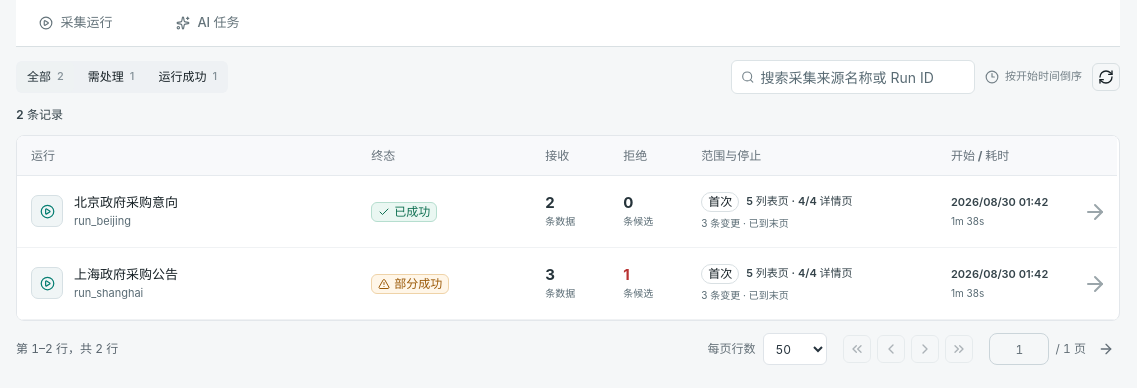
Test: RunsPage operational list › searches rows by collector name and keeps status filtering available
The width and height of the screenshot is (1137, 388).
In the field named "搜索运行": (863, 77) [760,62,965,92], type "上海"
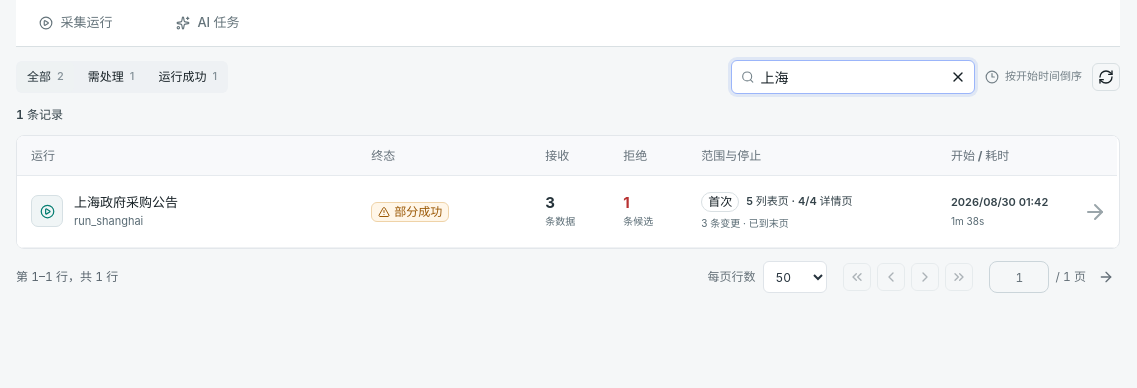
Expected: the text "上海政府采购公告" is shown, [74,192,178,213]
Expected: the link "北京政府采购意向" is gone
Click the button "运行成功 1": click(188, 77) [147,61,228,93]
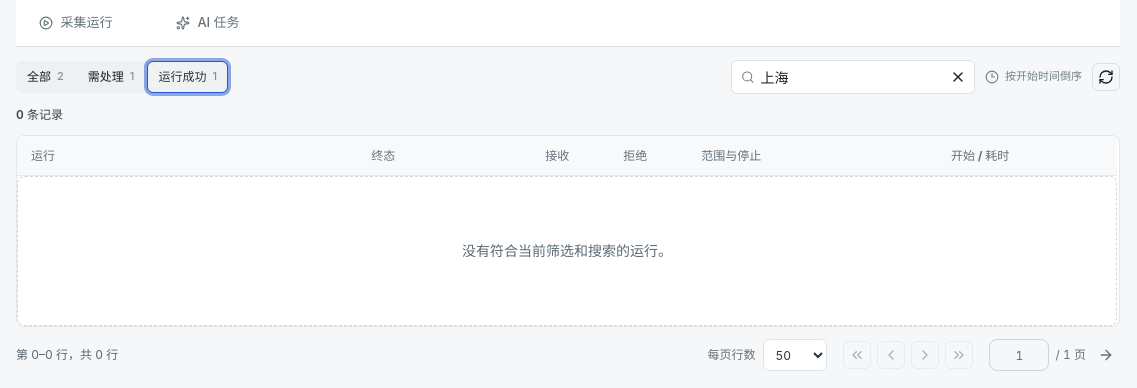
Expected: the text "没有符合当前筛选和搜索的运行。" is shown, [17,176,1117,326]
